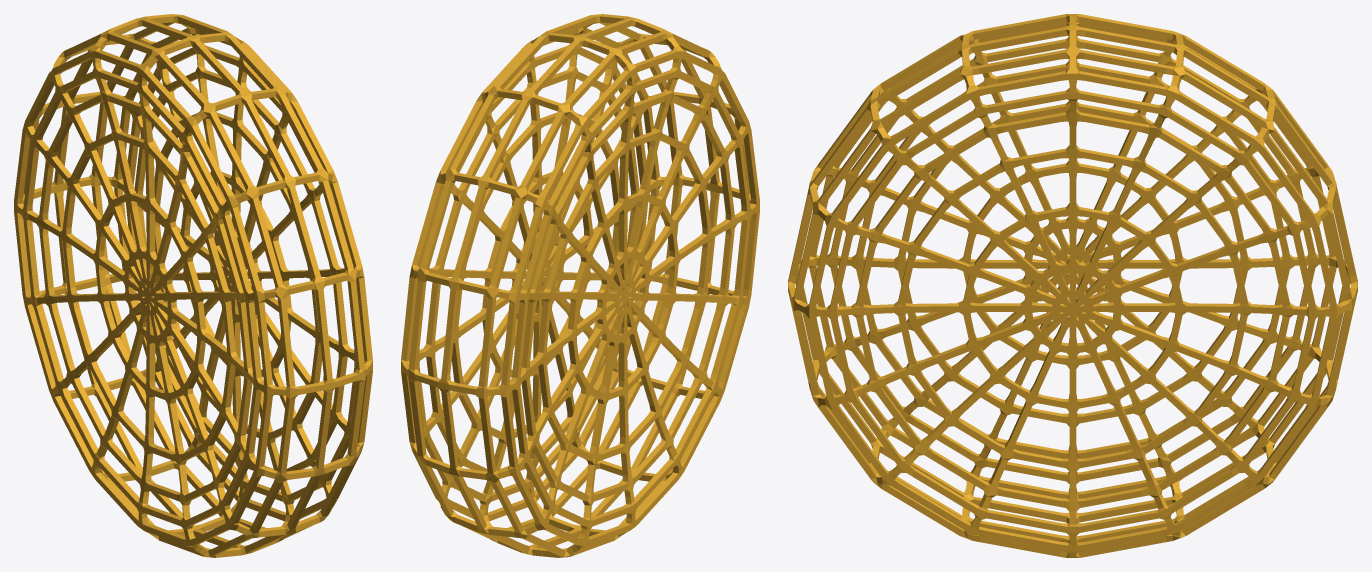
The model's file is CoinOutline.fbx.
3 renders of one model, left to right at view 1: azimuth 30°, elevation 25°; view 2: azimuth 150°, elevation 25°; view 3: azimuth 270°, elevation 25°, orthographic. The views are drawn at different scales.
Parts seen in each view (by area): view 1: CoinOutline; view 2: CoinOutline; view 3: CoinOutline.
Boxes of the visible parts, <box> form: CoinOutline: <box>14,14,372,557</box>; CoinOutline: <box>401,14,759,557</box>; CoinOutline: <box>788,14,1357,557</box>.
Size of the model in its own units: 40.92 by 181 by 181.
